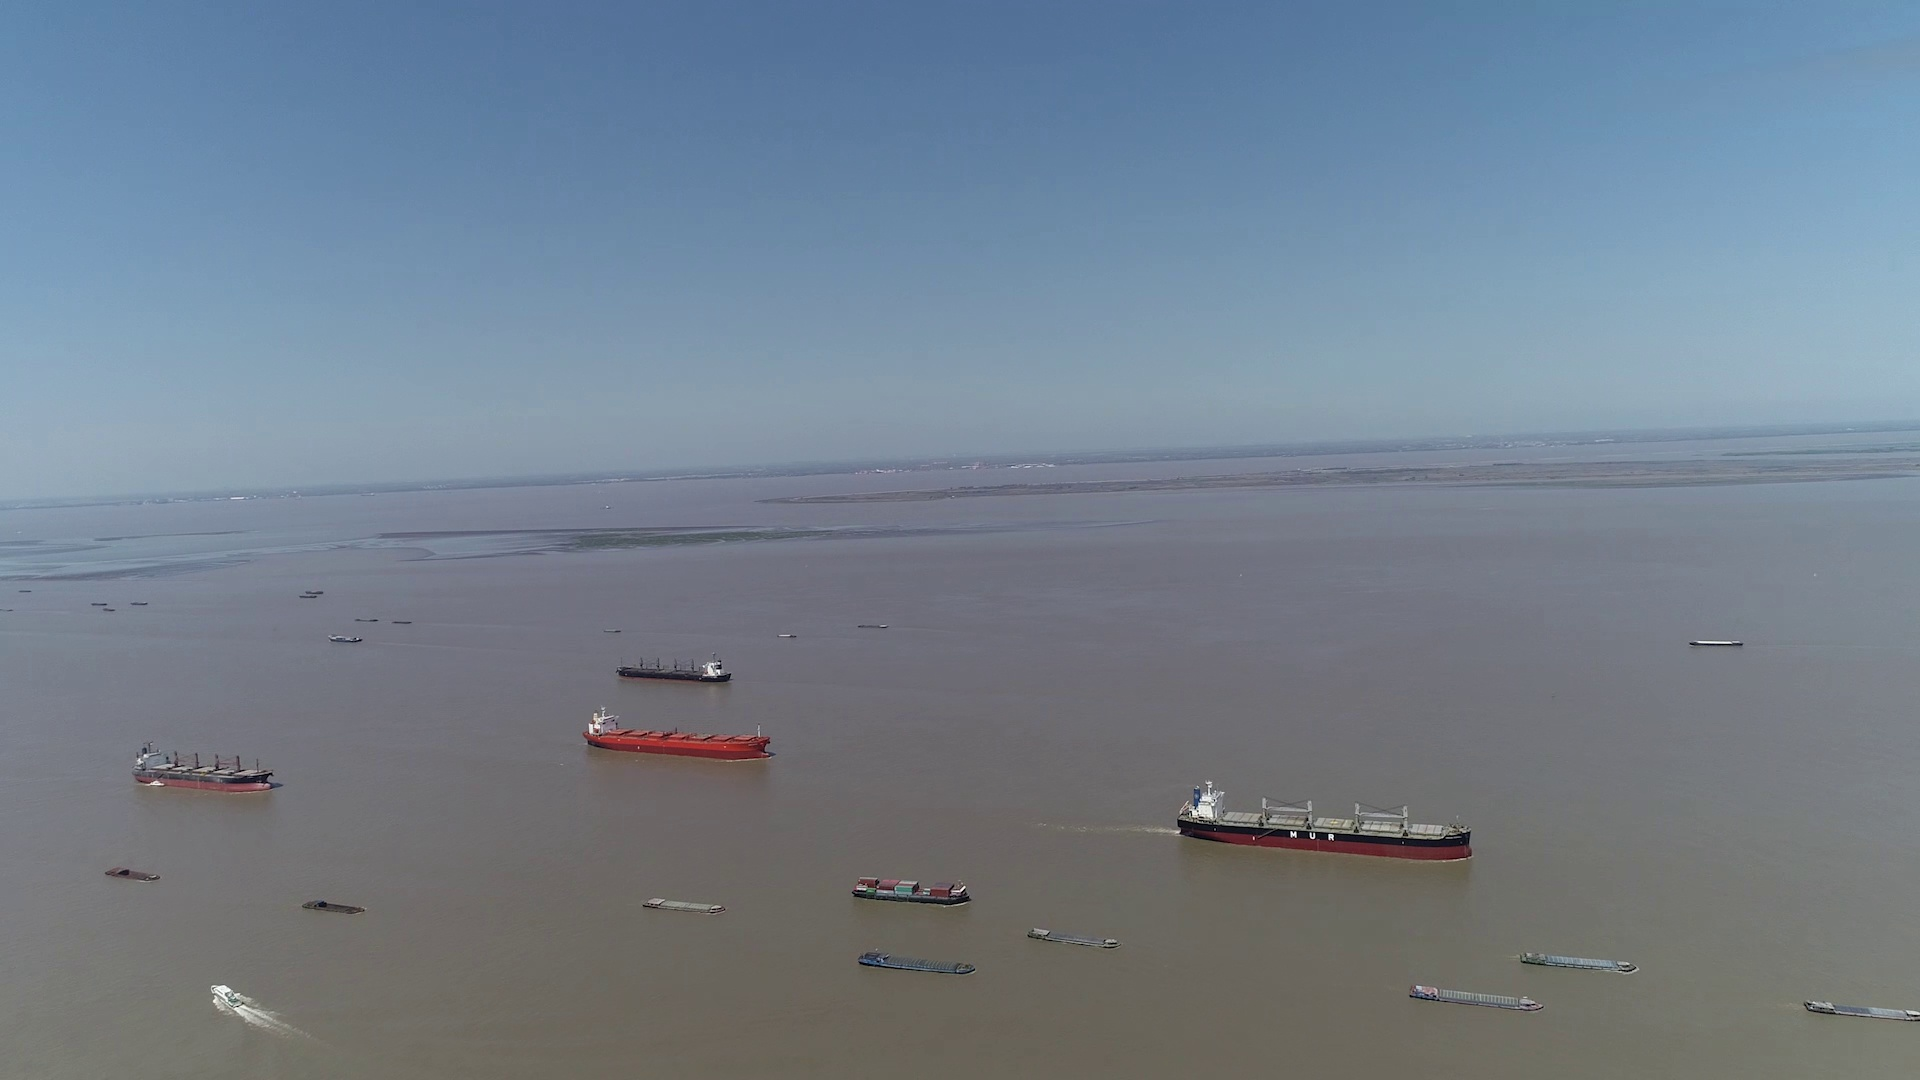ship: (1176, 781, 1473, 860), (583, 705, 770, 760), (136, 738, 278, 791), (1408, 982, 1543, 1011), (617, 653, 731, 682), (852, 878, 969, 906), (860, 952, 978, 975), (1804, 1000, 1920, 1021), (1520, 951, 1635, 972), (1026, 927, 1121, 949), (644, 895, 724, 914), (301, 899, 364, 915), (208, 982, 244, 1009), (104, 866, 156, 881), (1687, 638, 1741, 647), (324, 634, 365, 644)
